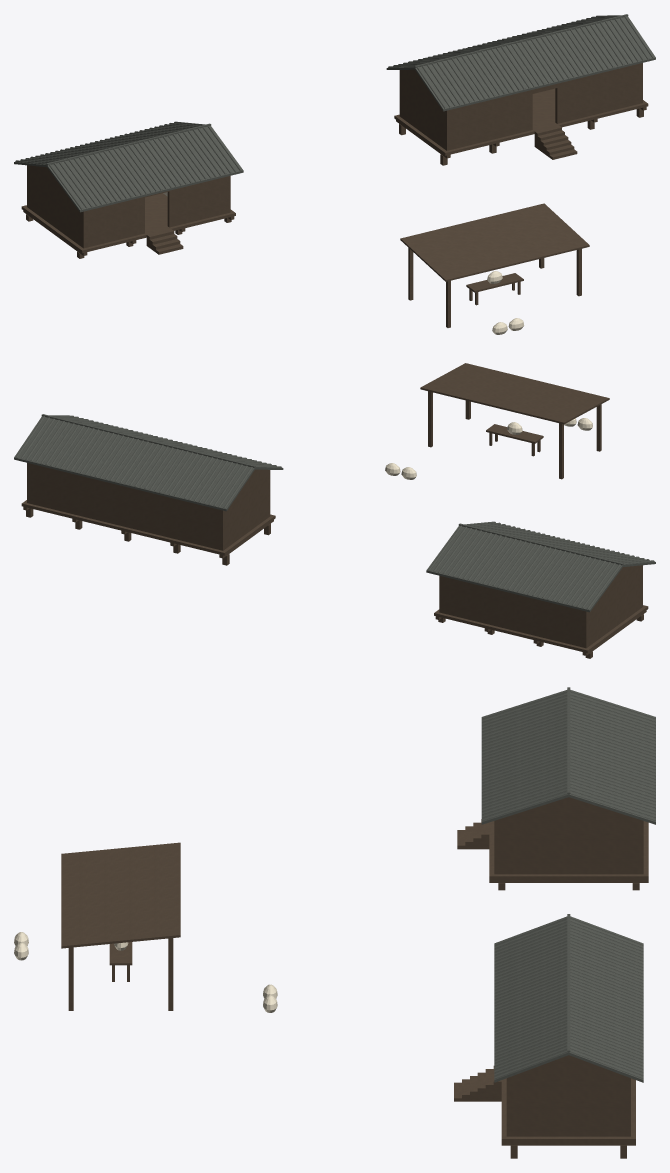
Rendered from granary-group-LOD0.glb.
The picture shows the model from 3 angles, top to bottom: view 1: azimuth 30°, elevation 25°; view 2: azimuth 150°, elevation 25°; view 3: azimuth 270°, elevation 25°; orthographic projection. The views are drawn at different scales.
Parts seen in each view (by area): view 1: granary-group-static_timber, granary-group-static_tile, granary-group-static_paper__cargo_proxy; view 2: granary-group-static_timber, granary-group-static_tile, granary-group-static_paper__cargo_proxy; view 3: granary-group-static_tile, granary-group-static_timber, granary-group-static_paper__cargo_proxy.
Part boxes in pixels (x1,y1,x2,y2): granary-group-static_timber: [21, 63, 648, 327]; granary-group-static_tile: [14, 14, 655, 212]; granary-group-static_paper__cargo_proxy: [163, 192, 524, 334]; granary-group-static_timber: [21, 363, 648, 658]; granary-group-static_tile: [14, 414, 655, 612]; granary-group-static_paper__cargo_proxy: [385, 418, 592, 479]; granary-group-static_tile: [481, 687, 655, 1082]; granary-group-static_timber: [61, 797, 648, 1158]; granary-group-static_paper__cargo_proxy: [14, 932, 277, 1012].
Size of the model in its own units: 35.5 by 4.95 by 25.8.
3 materials, 2 textured.
